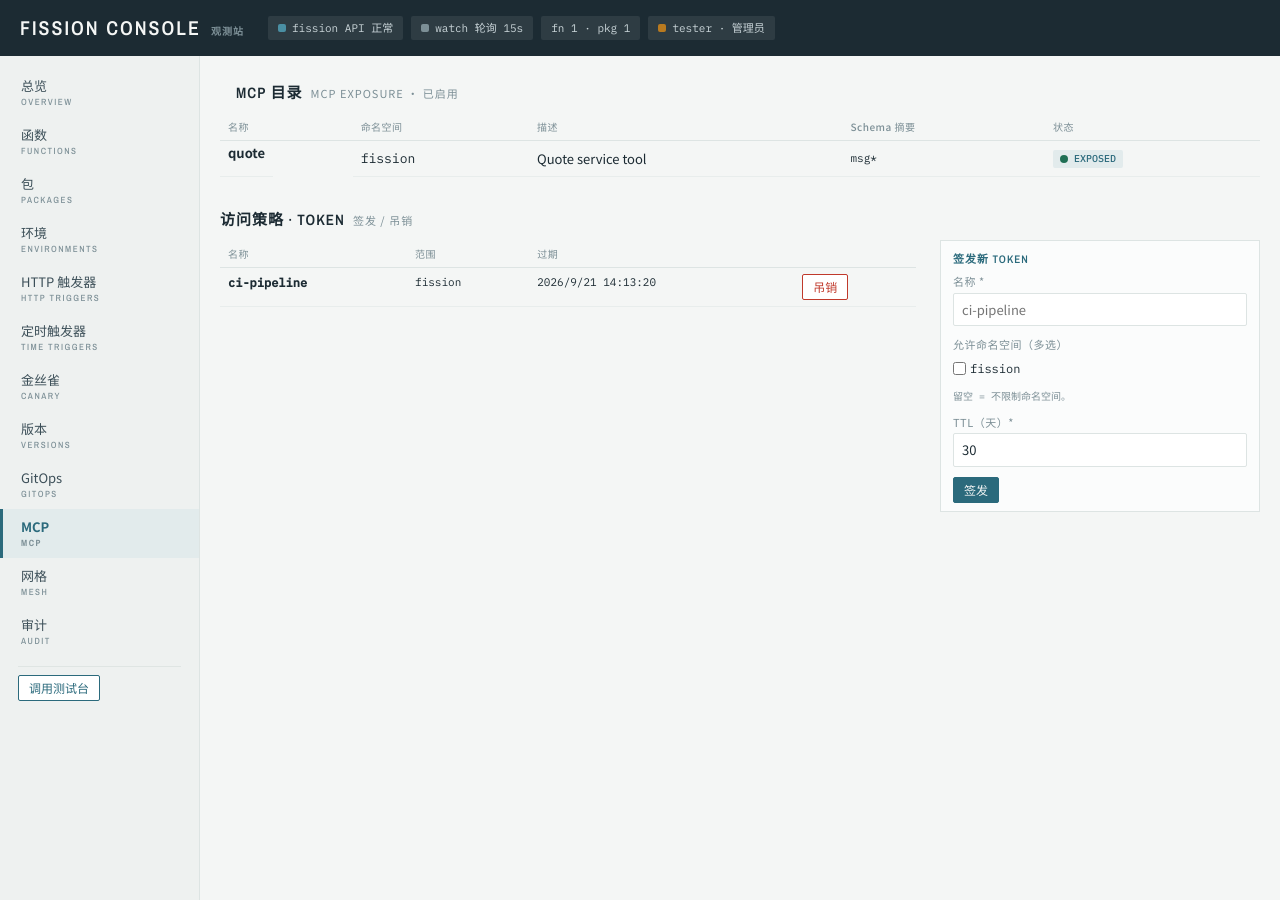
Test case: J6 · MCP 旅程 › case2 enabled=true：工具目录表显示已暴露函数 → 展开编辑描述保存 → PUT 200 → toast
The width and height of the screenshot is (1280, 900).
Expected: the text "MCP EXPOSURE · 已启用" is shown, [310,85,459,102]
Expected: the text "Quote service tool" is shown, [529,140,842,176]
Step 1. Click the text "quote" → (247, 158), box [220,140,273,176]
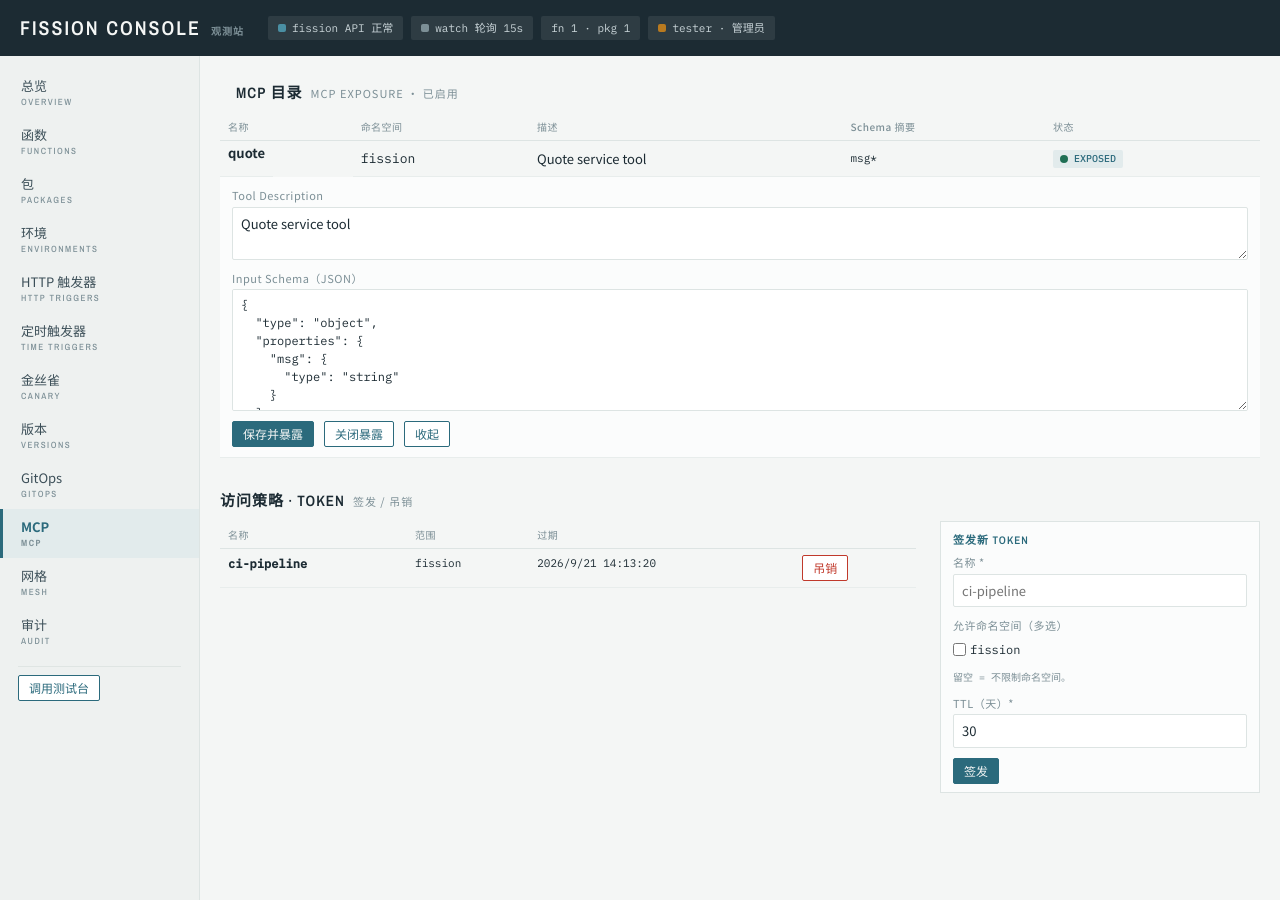
Step 2. Replace the text in the text box with placeholder "给 LLM 看的工具描述…" below "Tool Description" with "Quotes any input string" → (740, 233), box [232,206,1248,260]
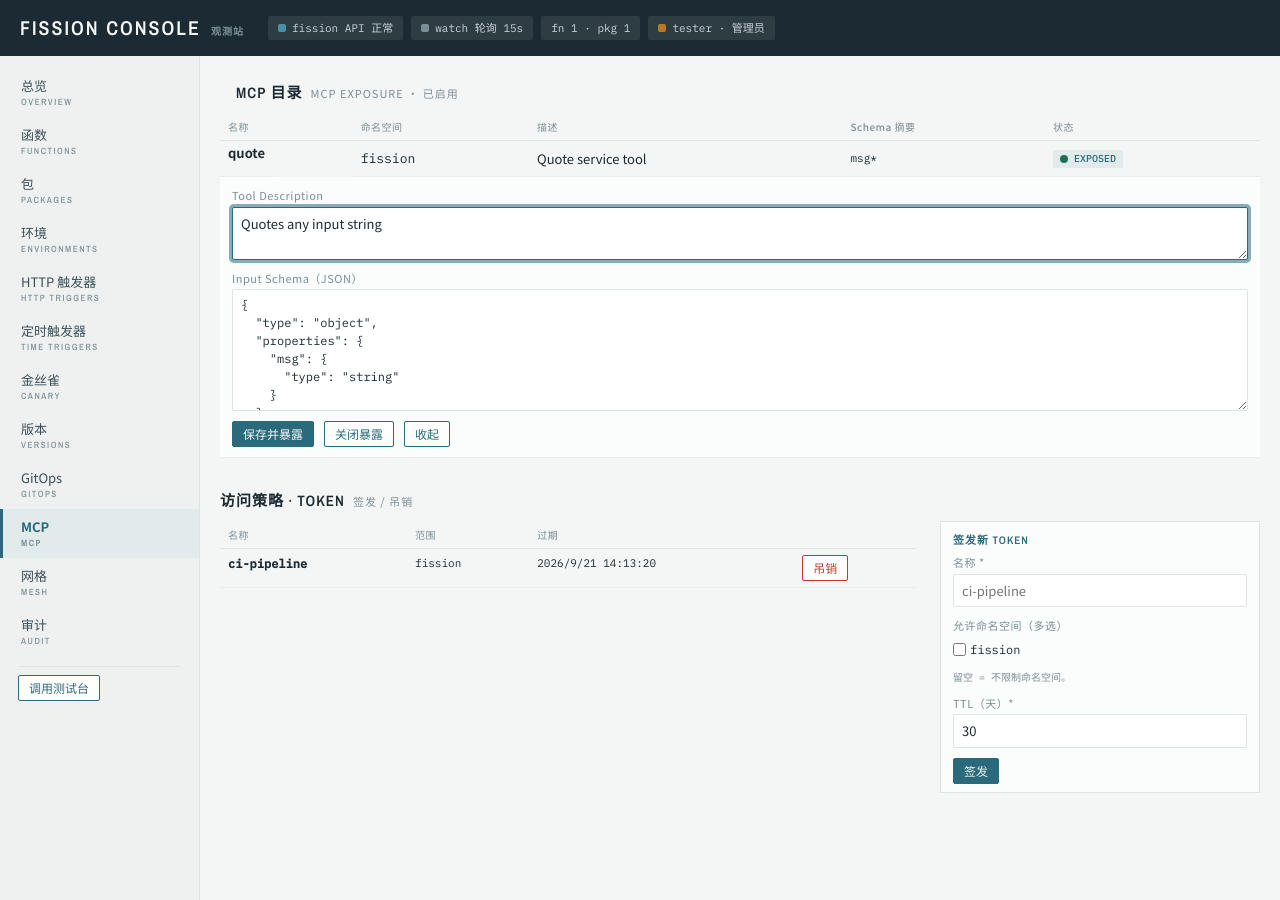
Step 3. Click the button "保存并暴露" → (273, 434), box [232,421,314,447]
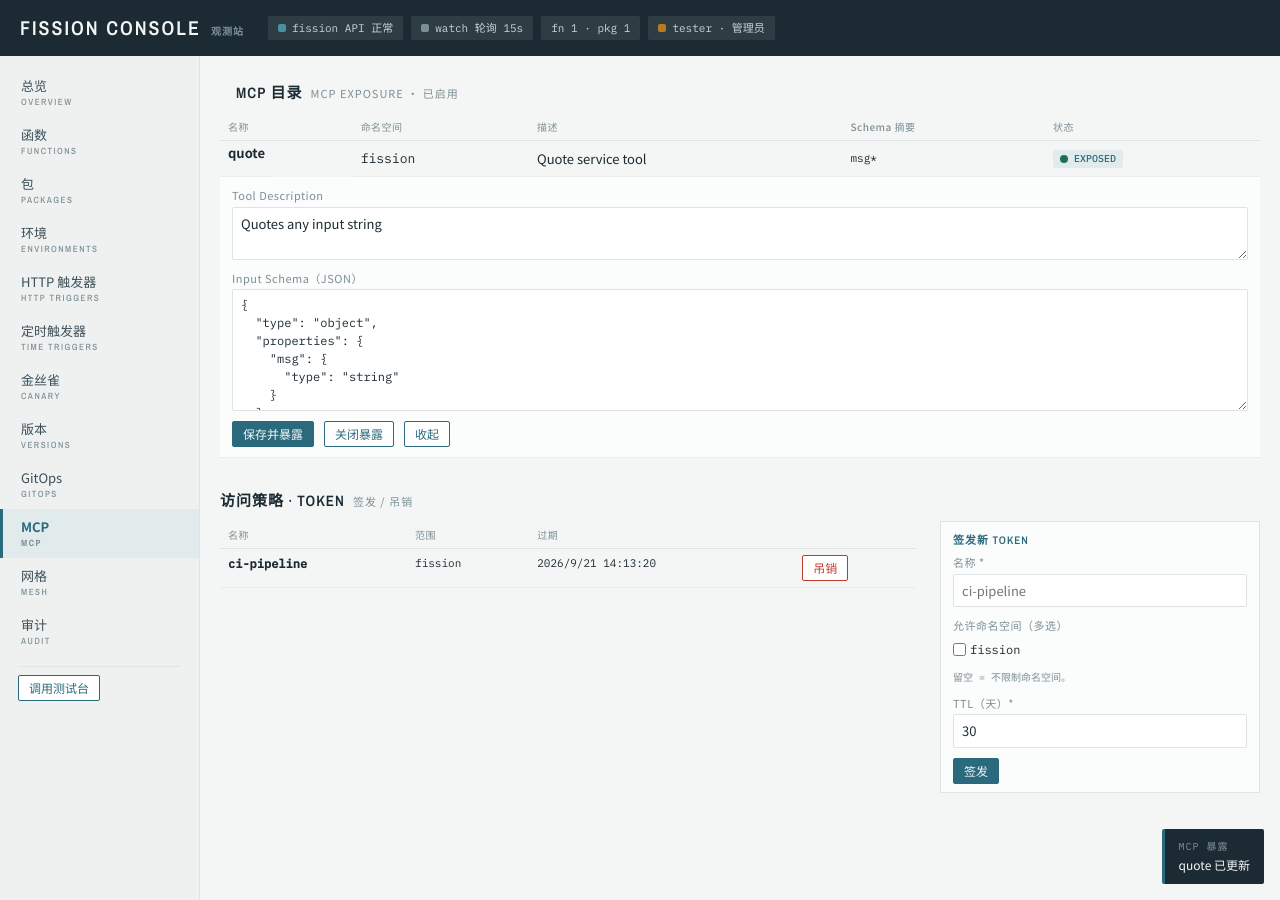
Expected: the text "MCP 暴露 quote 已更新" is shown, [1162,829,1264,884]
